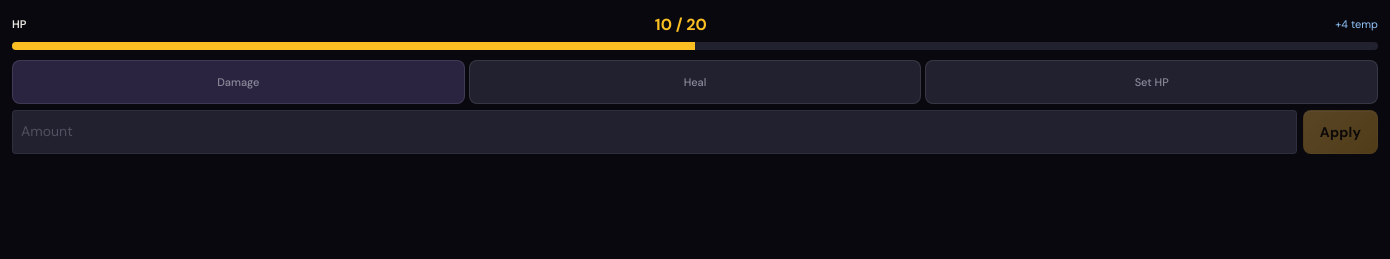
Test case: times out a silent save, ignores its late response and retries the same saved adjustment
This screenshot has width=1390, height=259.
Type "6" into the number field named "HP amount".
click(654, 132); type("6")  # box 12,110 -> 1297,154
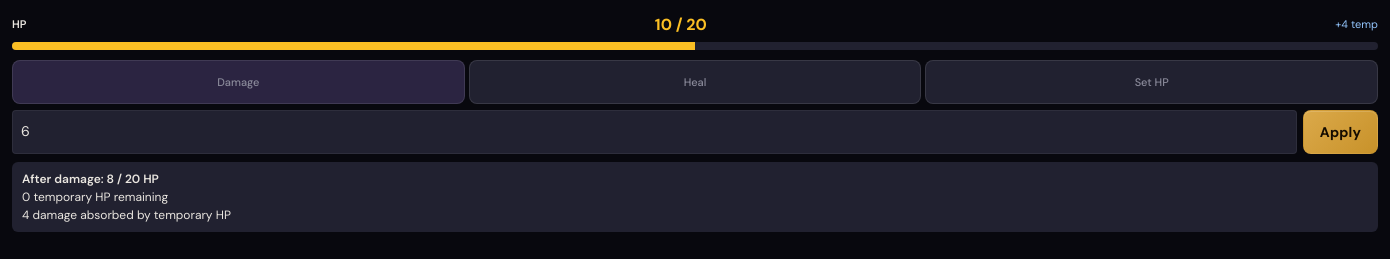
Click the button "Apply".
click(1340, 132)  # box 1303,110 -> 1378,154
Wait 15001 ms
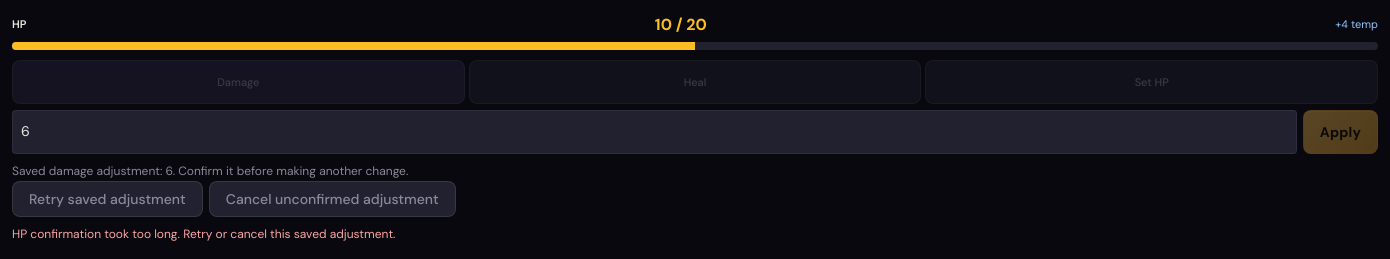
Check: the text "10 / 20" is shown, box 655,12 -> 707,38
Check: the message "HP confirmation took too long. Retry or cancel this saved adjustment." is shown, box 12,226 -> 396,242
Check: the button "Retry saved adjustment" is enabled
Click the button "Retry saved adjustment".
click(107, 199)  # box 12,181 -> 203,217
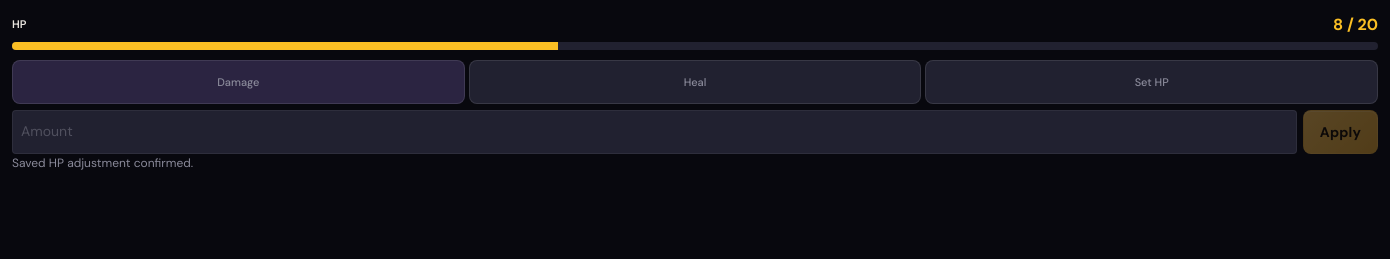
Check: the text "8 / 20" is shown, box 1333,12 -> 1378,38
